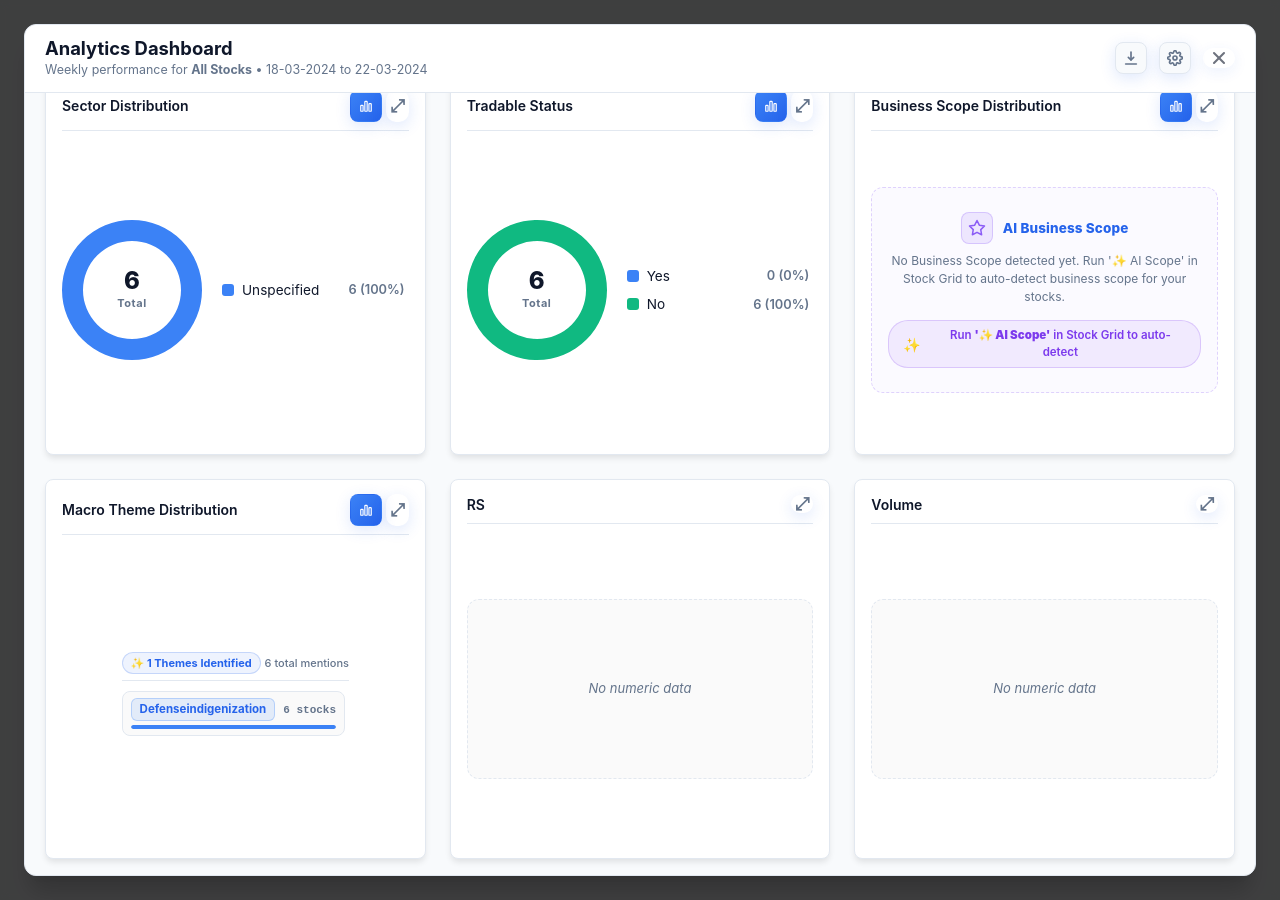
Test: AnalyticsDashboard › automatically expands collapsed stocks and sorts matching stocks first when search is active
(page scrolled)
Expand Macro Theme Distribution
Click the button with class "expand-btn" next to "Macro Theme Distribution" at (398, 510), box [386,494,409,526]
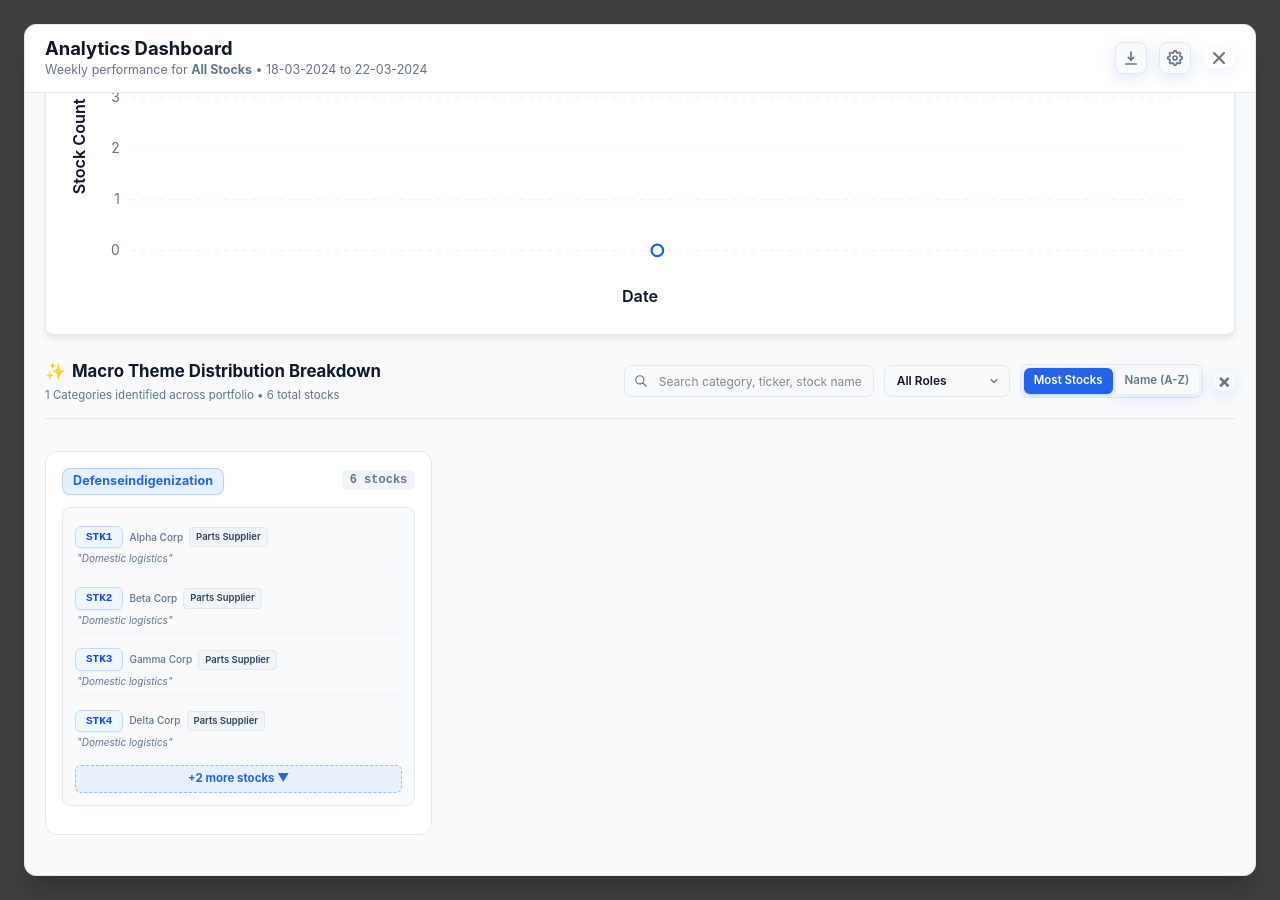
Expected: the element with class "ai-scope-exp-card" shows "+2 more stocks", [75,765,402,793]
Type "Indigenization" into the field with placeholder "Search category, ticker, stock name..." at (749, 381), box [624,365,874,397]
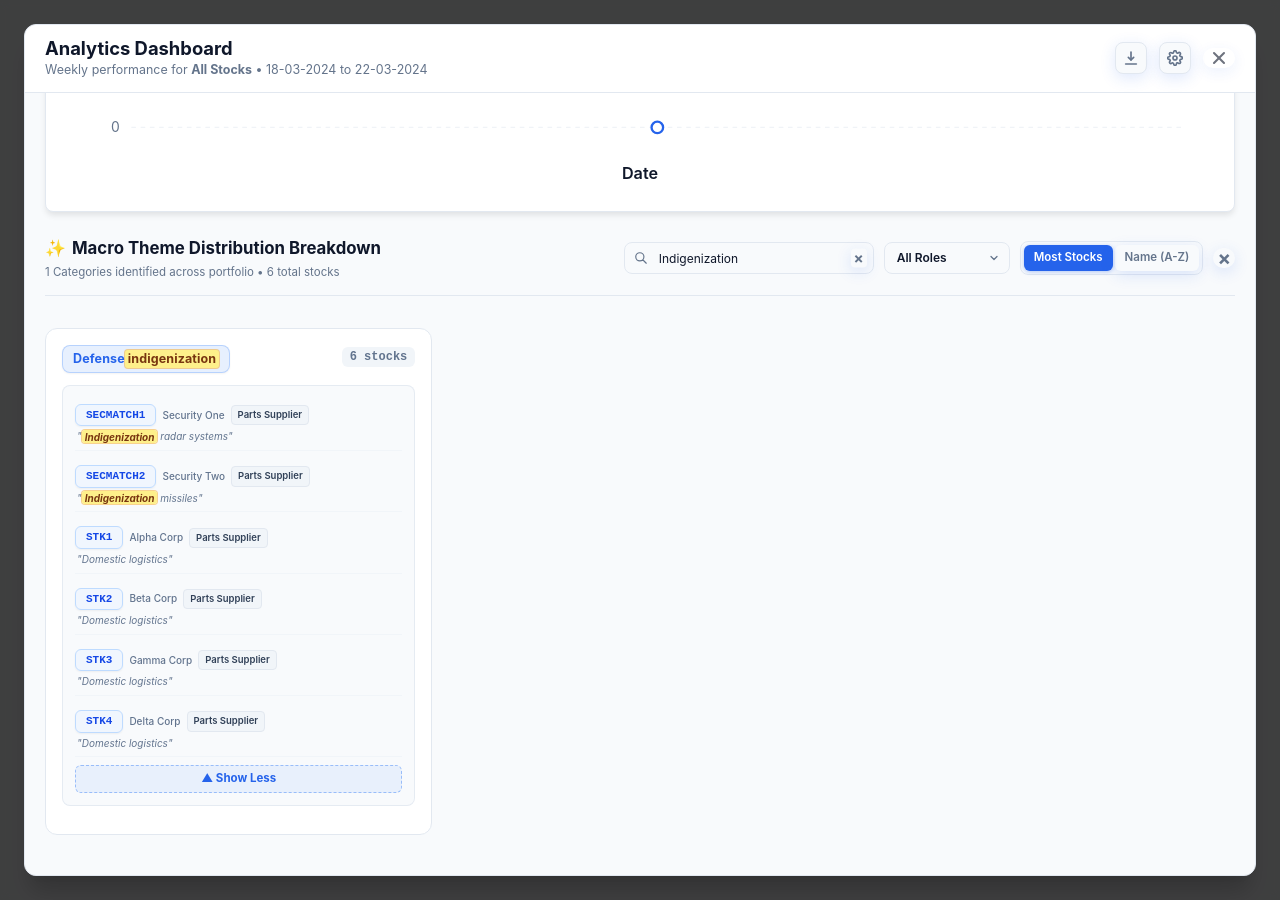
Expected: the element with class "ai-scope-exp-card" shows "SECMATCH1", [86,409,145,421]
Expected: the element with class "ai-scope-exp-card" shows "SECMATCH2", [86,470,145,482]
Clearing search restores collapsed state
Clear the field with placeholder "Search category, ticker, stock name..." at (749, 258), box [624,242,874,274]
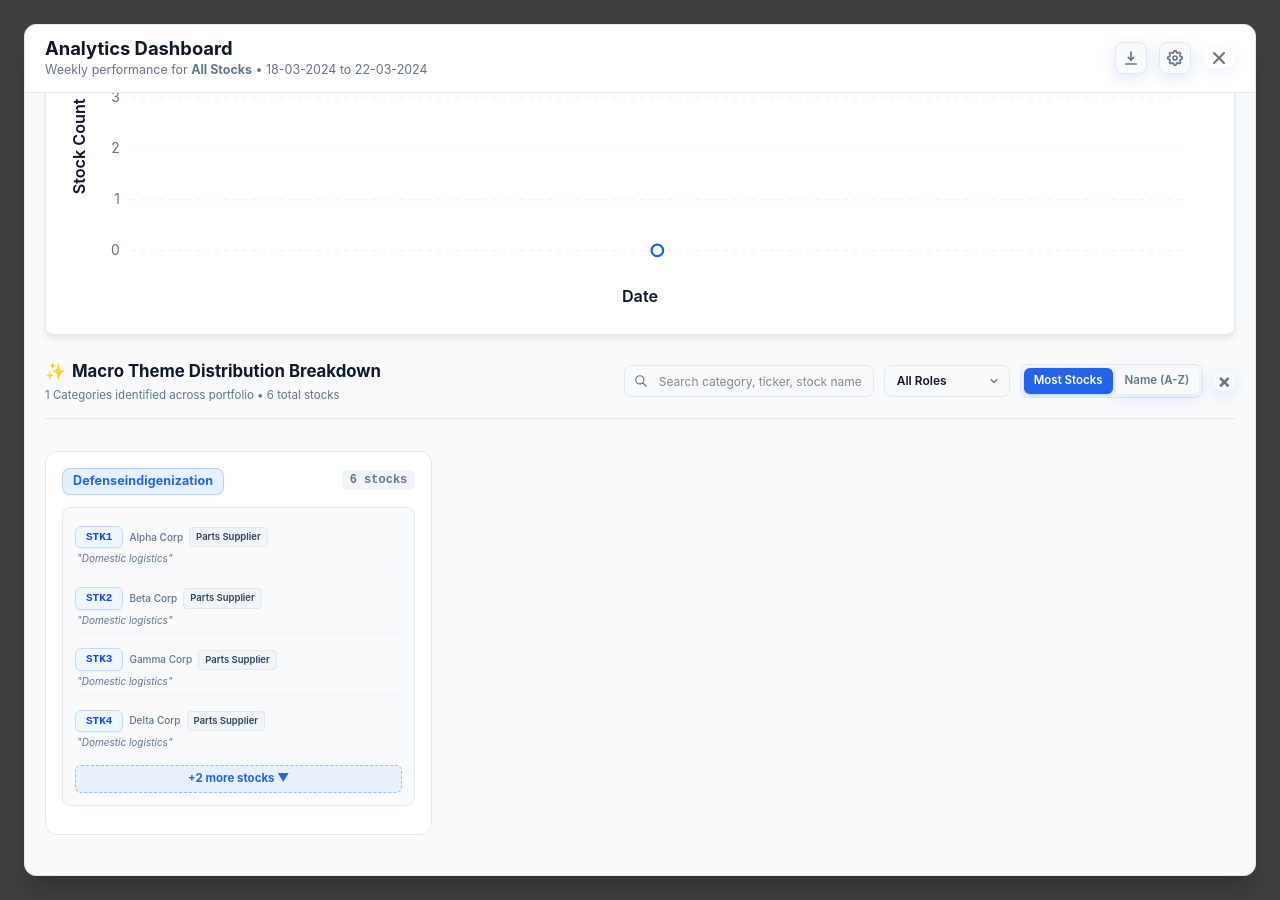
Expected: the element with class "ai-scope-exp-card" shows "+2 more stocks", [75,765,402,793]
